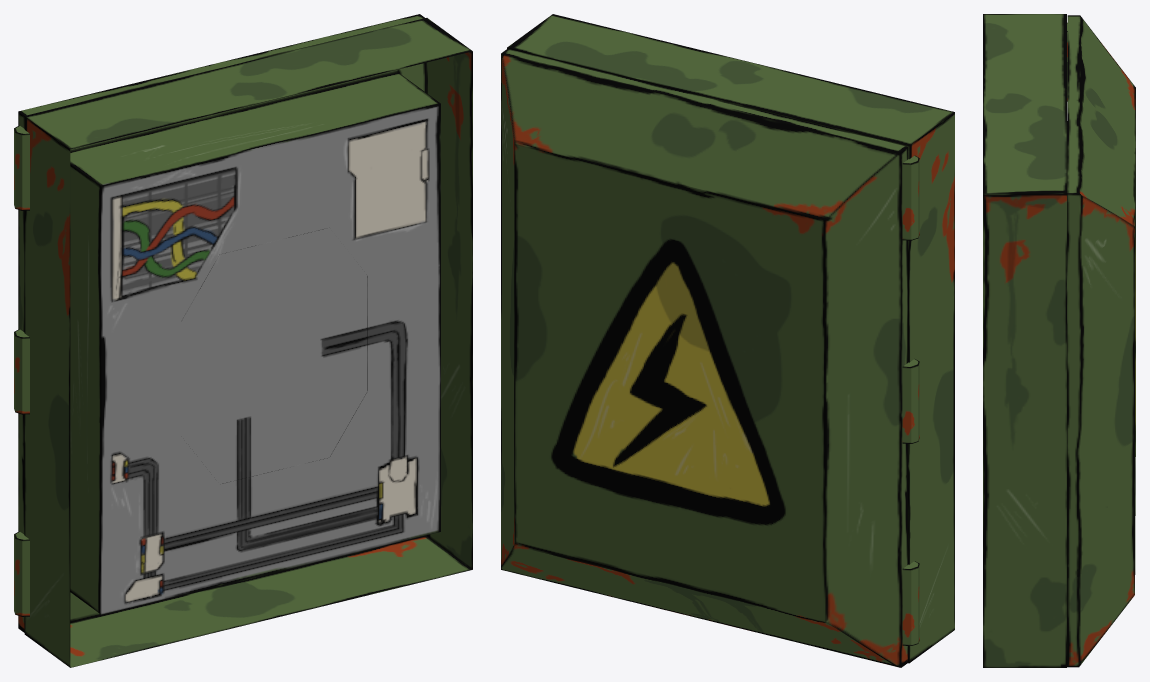
File: BoitierElectrique_GRP.fbx
3 views of the same model, side by side, from view 1: azimuth 30°, elevation 25°; view 2: azimuth 150°, elevation 25°; view 3: azimuth 270°, elevation 25° (orthographic). The views are drawn at different scales.
Visible parts, largest first — view 1: boitier_SHP, couvercle_SHP; view 2: couvercle_SHP, boitier_SHP; view 3: boitier_SHP, couvercle_SHP.
Boxes of the visible parts, x1,y1,x2,y2 form: boitier_SHP: [24, 18, 472, 667]; couvercle_SHP: [14, 14, 426, 632]; couvercle_SHP: [501, 48, 919, 667]; boitier_SHP: [507, 14, 954, 663]; boitier_SHP: [983, 14, 1066, 667]; couvercle_SHP: [1067, 15, 1135, 667].
Bounding box in the file's own units: 2.22 × 2.67 × 0.7799.
